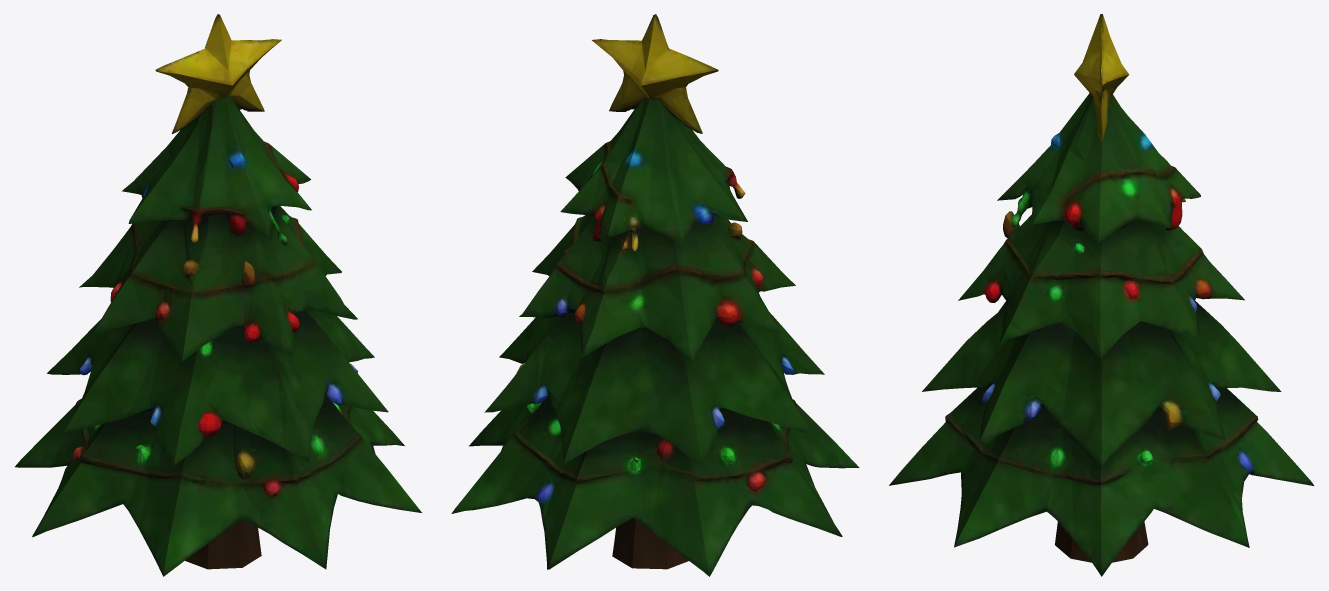
File: tree.glb
3 views of the same model, side by side, from view 1: azimuth 30°, elevation 25°; view 2: azimuth 150°, elevation 25°; view 3: azimuth 270°, elevation 25° (orthographic).
Parts seen in each view (by area): view 1: geometry_0; view 2: geometry_0; view 3: geometry_0.
Boxes of the visible parts, x1,y1,x2,y2 form: geometry_0: [15, 14, 421, 576]; geometry_0: [451, 14, 859, 576]; geometry_0: [889, 14, 1313, 576].
Size of the model in its own units: 0.728 by 0.9995 by 0.7262.
1 material, 1 textured.
